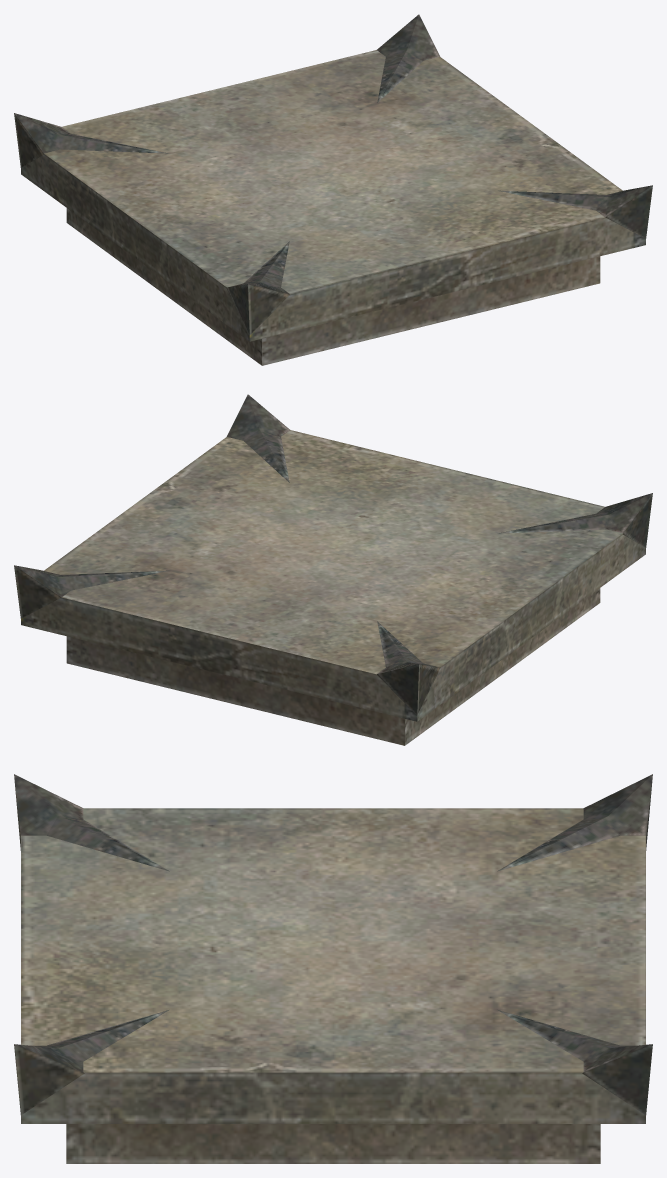
File: bg_lut_lutomb_pillar08d_sm_old.FBX
3 renders of one model, top to bottom at view 1: azimuth 30°, elevation 25°; view 2: azimuth 150°, elevation 25°; view 3: azimuth 270°, elevation 25°, orthographic. The views are drawn at different scales.
Parts seen in each view (by area): view 1: bg_lut_lutomb_pillar08d_sm_old; view 2: bg_lut_lutomb_pillar08d_sm_old; view 3: bg_lut_lutomb_pillar08d_sm_old.
Boxes of the visible parts, x1,y1,x2,y2 form: bg_lut_lutomb_pillar08d_sm_old: [14, 14, 652, 365]; bg_lut_lutomb_pillar08d_sm_old: [14, 394, 652, 745]; bg_lut_lutomb_pillar08d_sm_old: [14, 774, 652, 1163].
Bounding box in the file's own units: 121 × 29.64 × 121.
